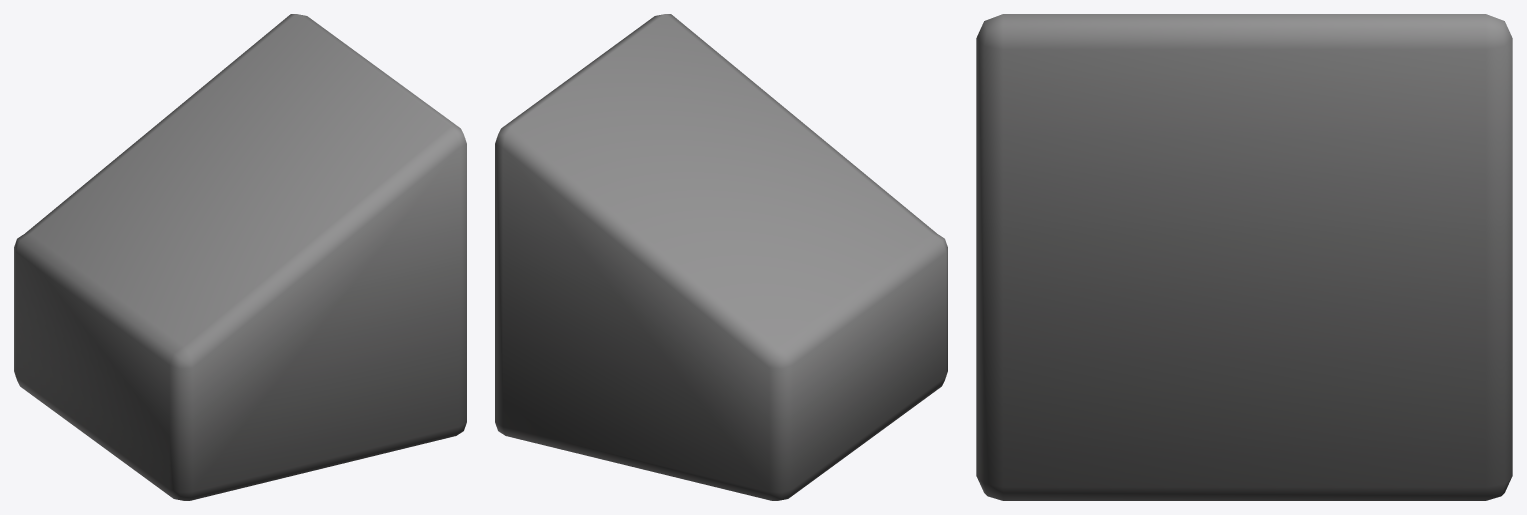
The model's file is 3D_Tile_Dungeon_Slope_01A.fbx.
3 renders of one model, left to right at view 1: azimuth 30°, elevation 25°; view 2: azimuth 150°, elevation 25°; view 3: azimuth 270°, elevation 25°, orthographic. The views are drawn at different scales.
Visible parts, largest first — view 1: 3D_Tile_Dungeon_Slope_01A; view 2: 3D_Tile_Dungeon_Slope_01A; view 3: 3D_Tile_Dungeon_Slope_01A.
Boxes of the visible parts, x1,y1,x2,y2 form: 3D_Tile_Dungeon_Slope_01A: [14, 14, 466, 500]; 3D_Tile_Dungeon_Slope_01A: [495, 14, 947, 500]; 3D_Tile_Dungeon_Slope_01A: [976, 14, 1512, 500].
Size of the model in its own units: 200 by 200 by 200.
